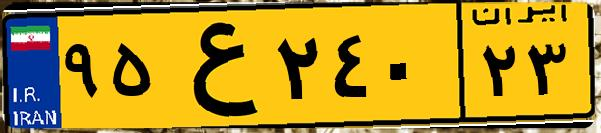0: (385, 28, 445, 110)
2: (270, 28, 330, 110), (475, 38, 525, 113)
3: (525, 38, 570, 115)
4: (330, 28, 385, 110)
5: (110, 28, 158, 98)
9: (57, 26, 110, 100)
ع: (158, 12, 270, 120)
